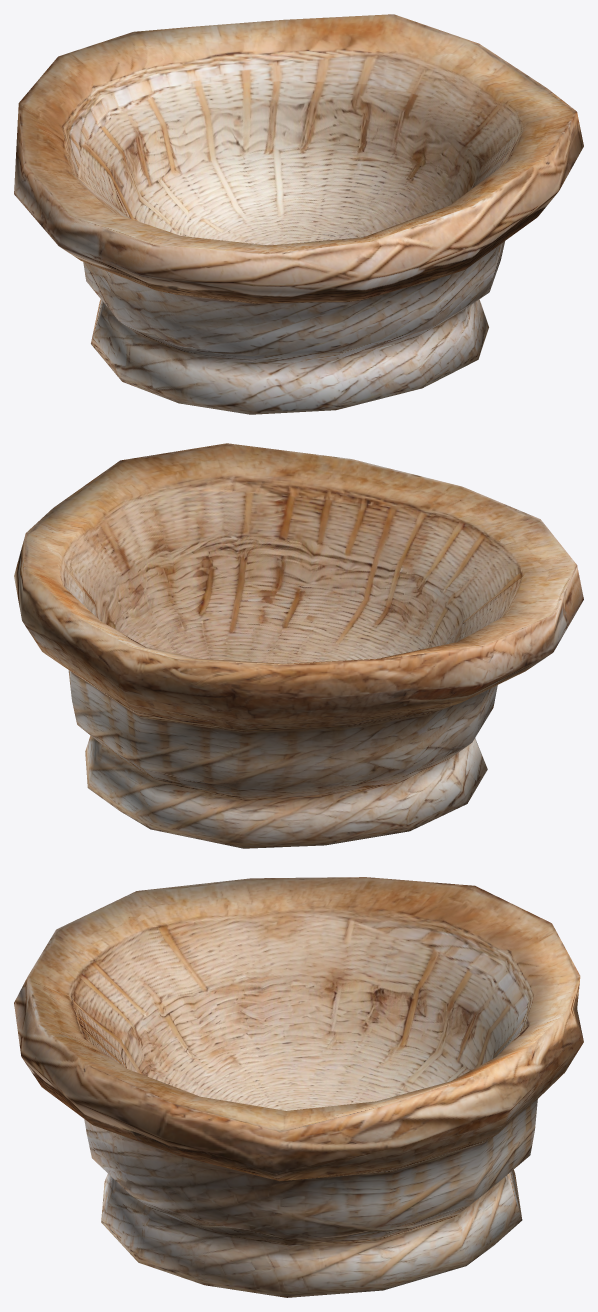
The model's file is wicker_basket_made_of_0411173000_texture.fbx.
The picture shows the model from 3 angles, top to bottom: view 1: azimuth 30°, elevation 25°; view 2: azimuth 150°, elevation 25°; view 3: azimuth 270°, elevation 25°; orthographic projection. The views are drawn at different scales.
Parts seen in each view (by area): view 1: Retopo_Mesh1.001; view 2: Retopo_Mesh1.001; view 3: Retopo_Mesh1.001.
Boxes of the visible parts, x1,y1,x2,y2 form: Retopo_Mesh1.001: [14, 14, 583, 414]; Retopo_Mesh1.001: [14, 443, 583, 848]; Retopo_Mesh1.001: [14, 877, 583, 1297].
Bounding box in the file's own units: 200 × 83.38 × 187.
Materials: 1 (1 with a texture image).
